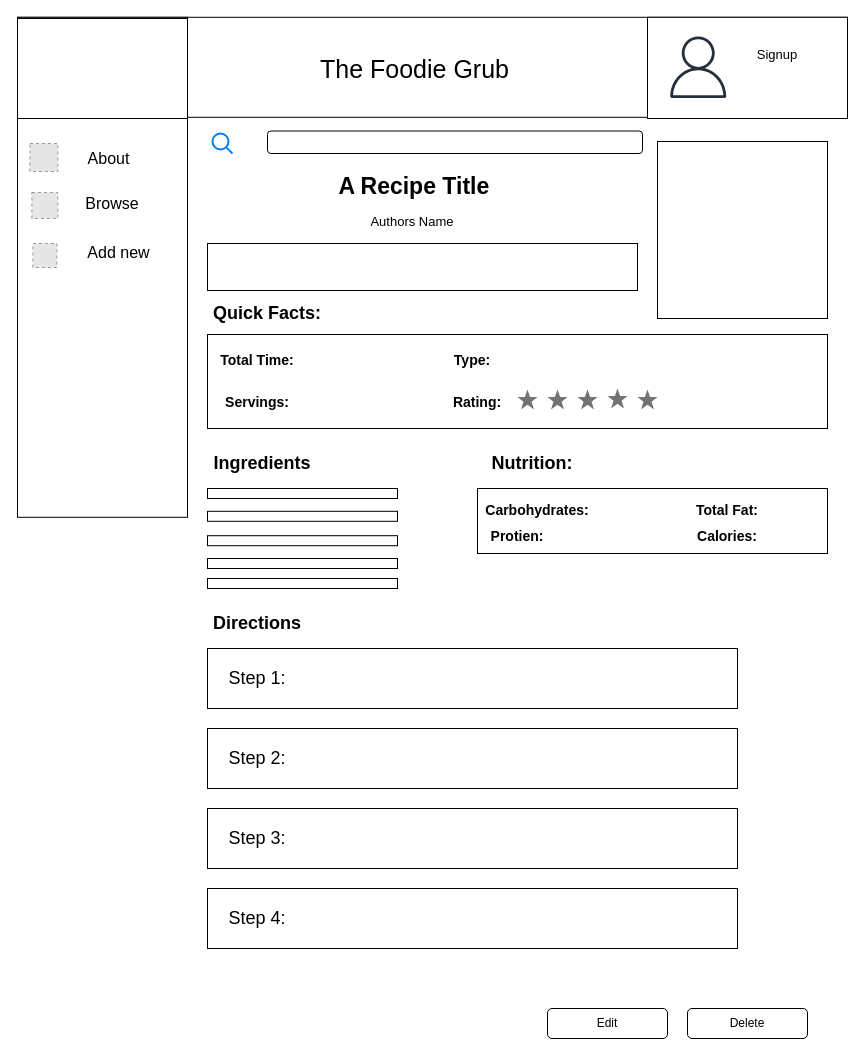
Image size: 865x1057. Some labels were removed from this diagram. Grey dashed boxes stand in for pictures. The centre of each missing label's shape, as x and y in pixels:
"Image" goes at (x=742, y=229).
"LOGO" goes at (x=102, y=68).
"Quick blurb about recipe" goes at (x=422, y=266).
